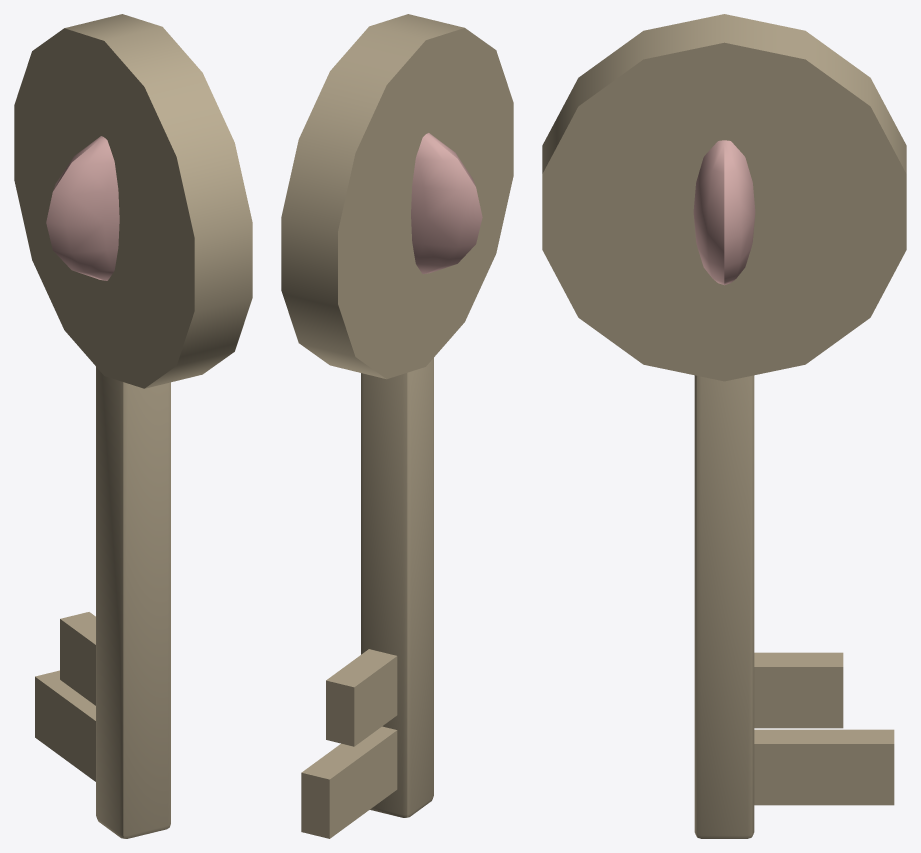
File: dk_key.gltf
3 renders of one model, left to right at view 1: azimuth 30°, elevation 25°; view 2: azimuth 150°, elevation 25°; view 3: azimuth 270°, elevation 25°, orthographic. The views are drawn at different scales.
Visible parts, largest first — view 1: Body; view 2: Body; view 3: Body.
Part boxes in pixels (x1,y1,x2,y2): Body: (14,14,252,838); Body: (281,14,513,838); Body: (542,14,906,838).
Bounding box in the file's own units: 0.12 × 0.52 × 0.2145.
